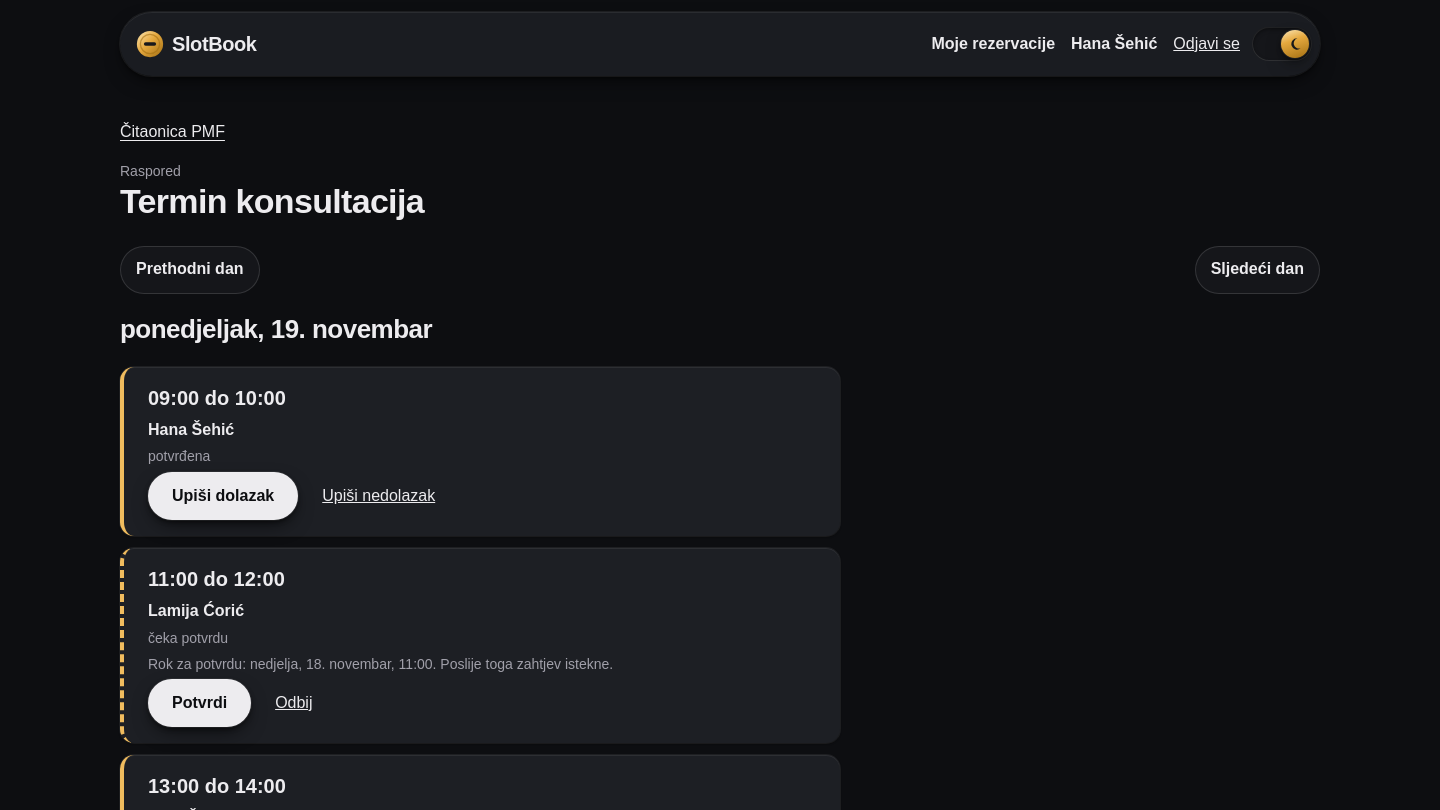
promjene › potvrda zahtjeva ide odmah i lista pokaže novo stanje
Click the button "Potvrdi" at (200,703), box [148,679,251,727]
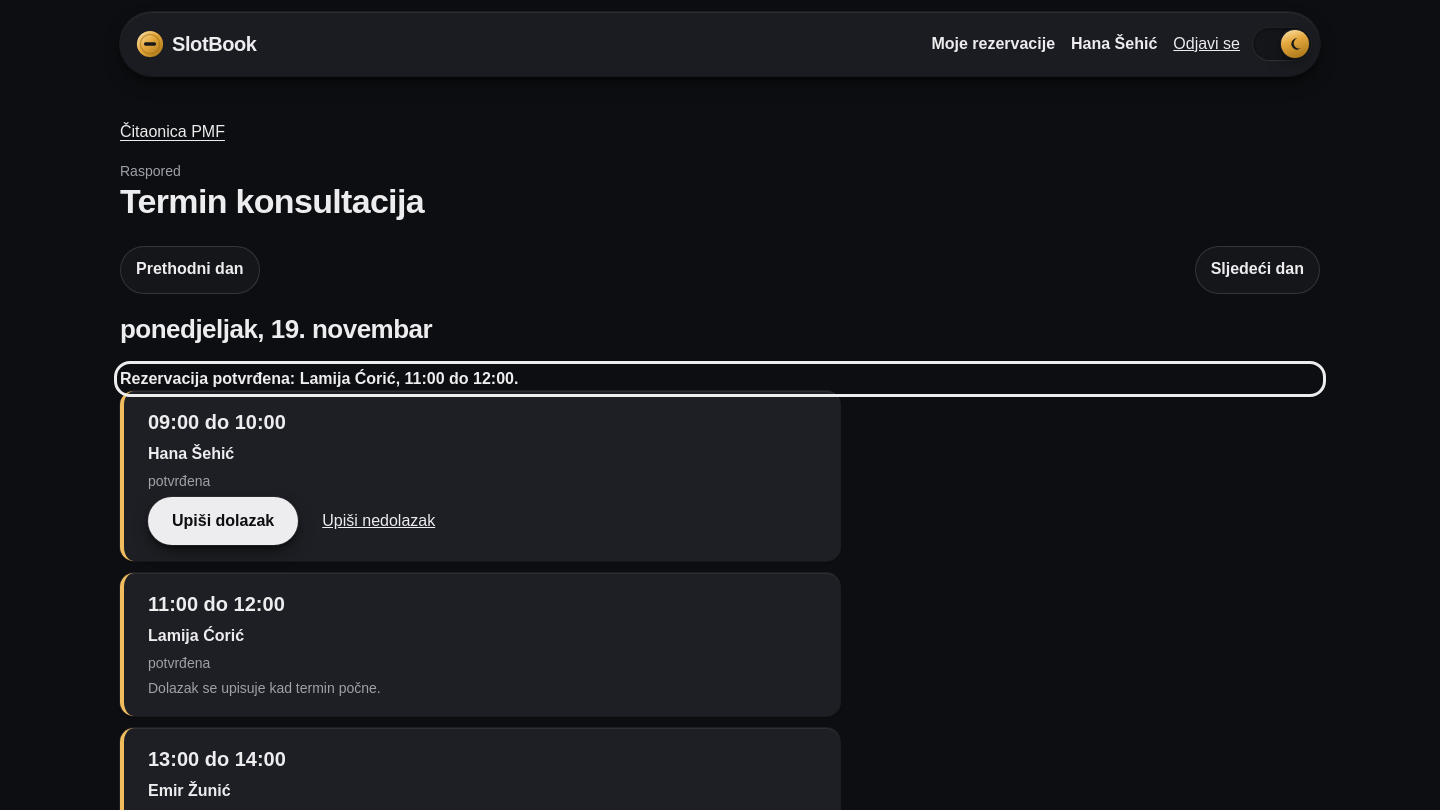
expect the text "Rezervacija potvrđena: Lamija Ćorić, 11:00 do 12:00." is shown: met, box [120,370,518,387]
expect the 2nd text "potvrđena" is shown: met, box [148,655,210,671]
